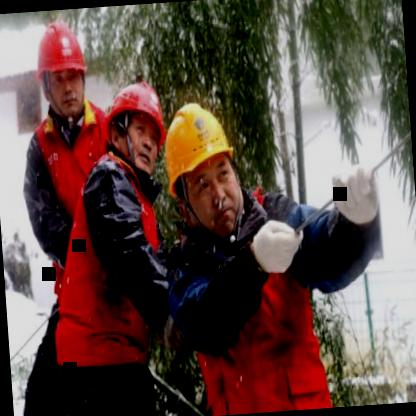helmet: (155, 97, 248, 248), (99, 71, 173, 186), (26, 12, 94, 133)
